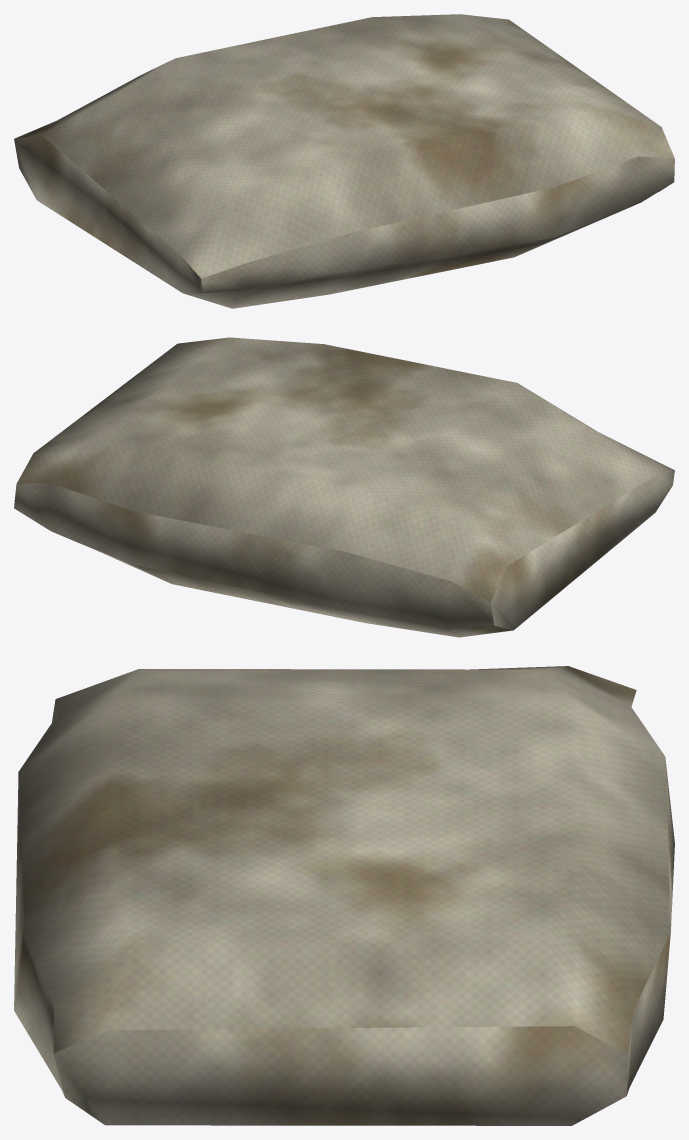
File: Pillow.fbx
3 views of the same model, one above another, from view 1: azimuth 30°, elevation 25°; view 2: azimuth 150°, elevation 25°; view 3: azimuth 270°, elevation 25° (orthographic). The views are drawn at different scales.
Visible parts, largest first — view 1: Pillow.001; view 2: Pillow.001; view 3: Pillow.001.
Boxes of the visible parts, x1=… form: Pillow.001: x1=14, y1=14, x2=674, y2=308; Pillow.001: x1=14, y1=337, x2=674, y2=637; Pillow.001: x1=14, y1=666, x2=674, y2=1125.
Bounding box in the file's own units: 0.5712 × 0.1593 × 0.4343.
Materials: 1 (1 with a texture image).
